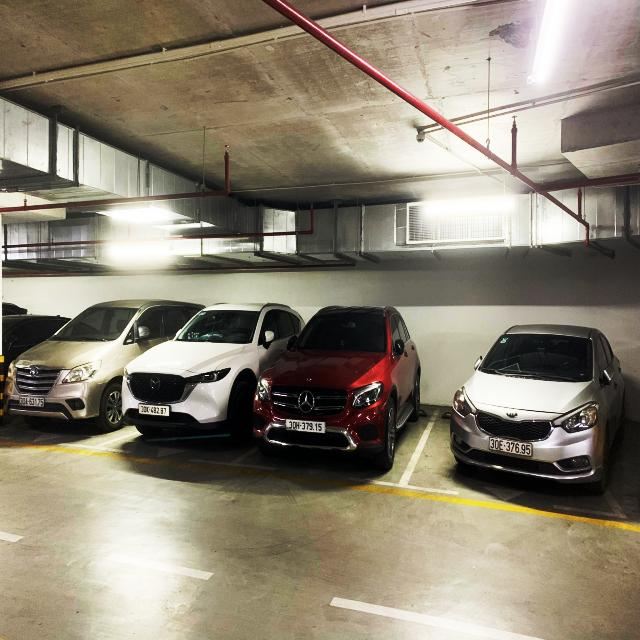license_plate: (488, 436, 535, 459), (285, 418, 329, 437), (138, 403, 172, 419), (19, 395, 47, 410)
